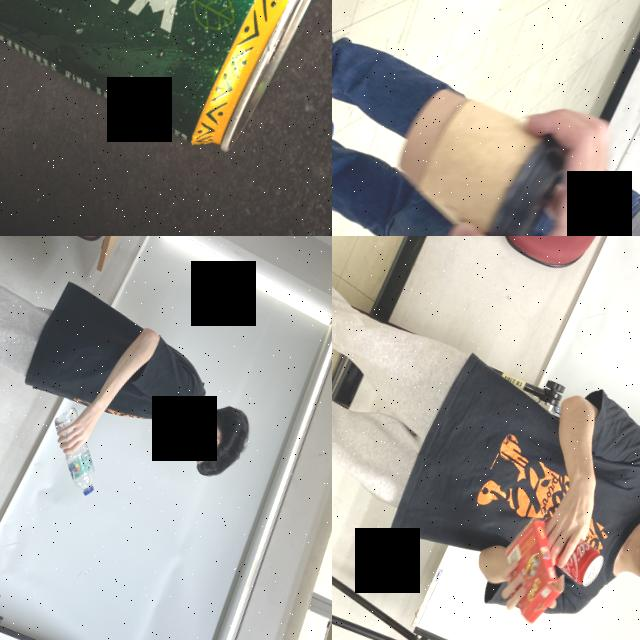bottle: (27, 400, 122, 500)
can: (0, 0, 332, 164), (524, 512, 610, 590)
cup: (378, 76, 576, 236)
